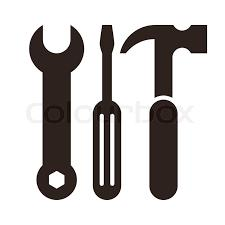hammer: (116, 22, 208, 201)
